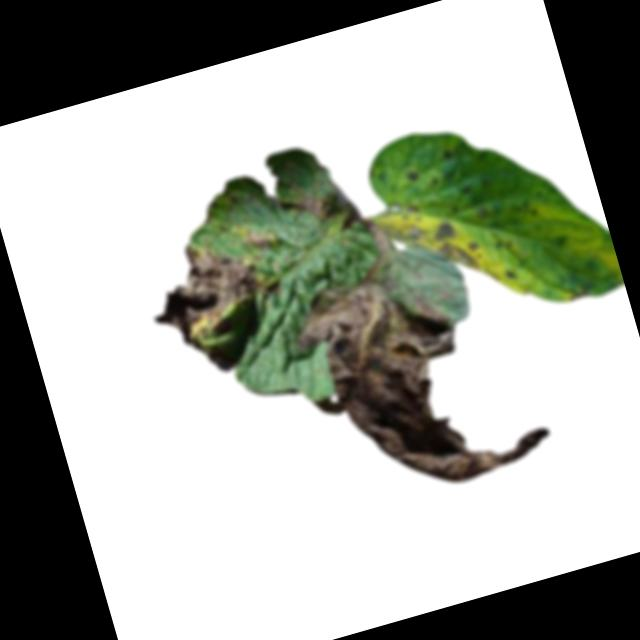Early_blight: (284, 242, 558, 514), (134, 224, 278, 361), (378, 191, 493, 300), (279, 182, 353, 230), (243, 221, 276, 254), (403, 164, 423, 183), (475, 204, 489, 219), (504, 265, 519, 279)
